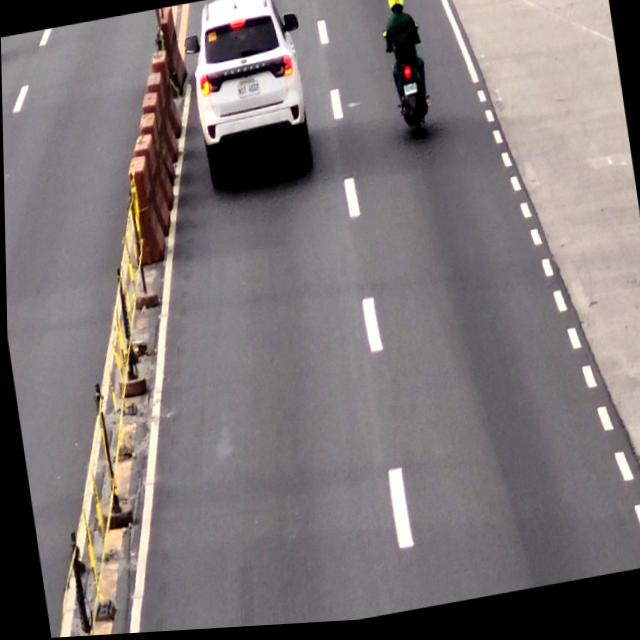Car: (184, 0, 311, 199)
License-Plate: (234, 84, 263, 103)
Motorcycle: (376, 0, 432, 143)
